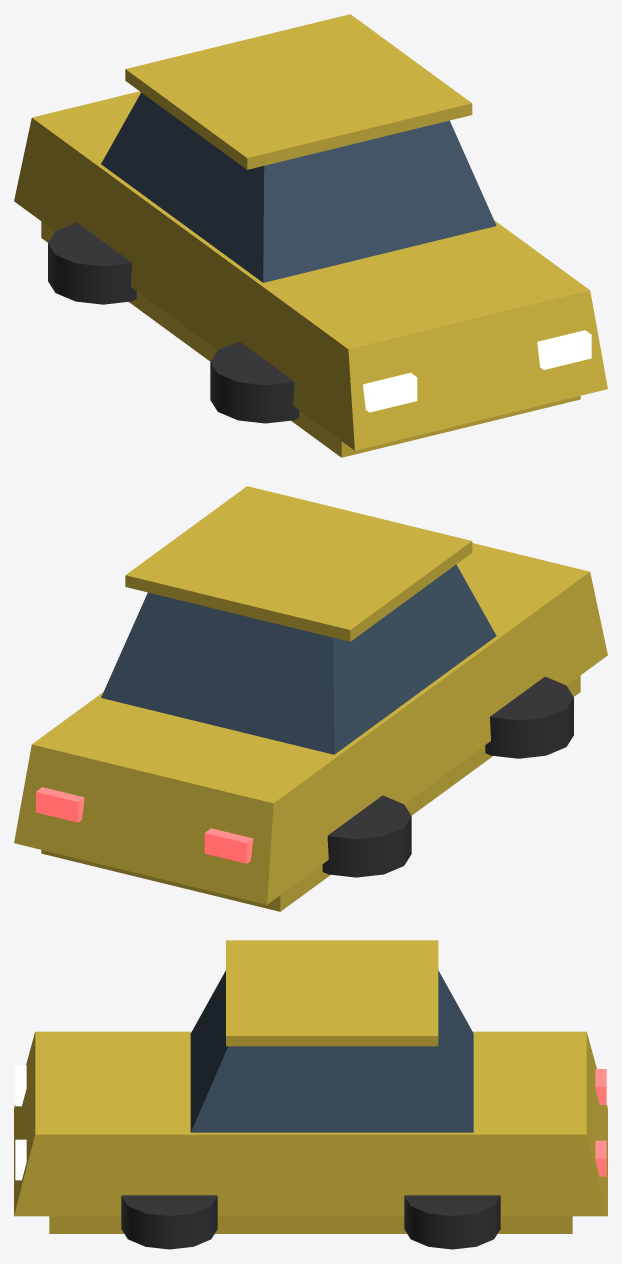
File: car_taxi.glb
3 views of the same model, one above another, from view 1: azimuth 30°, elevation 25°; view 2: azimuth 150°, elevation 25°; view 3: azimuth 270°, elevation 25° (orthographic). The views are drawn at different scales.
Parts seen in each view (by area): view 1: body, cabin, roof, wheels, lights; view 2: body, cabin, roof, wheels, tail; view 3: body, cabin, roof, wheels, lights, tail.
Part boxes in pixels (bbox=[...]): body: bbox=[14, 91, 607, 457]; cabin: bbox=[101, 92, 496, 282]; roof: bbox=[125, 14, 472, 169]; wheels: bbox=[48, 222, 299, 423]; lights: bbox=[363, 330, 591, 412]; body: bbox=[14, 543, 607, 911]; cabin: bbox=[101, 564, 496, 754]; roof: bbox=[125, 486, 472, 641]; wheels: bbox=[322, 677, 573, 877]; tail: bbox=[36, 787, 253, 863]; body: bbox=[14, 1031, 607, 1233]; cabin: bbox=[190, 970, 473, 1132]; roof: bbox=[226, 940, 438, 1046]; wheels: bbox=[121, 1195, 500, 1249]; lights: bbox=[15, 1065, 26, 1180]; tail: bbox=[595, 1069, 606, 1176].
Size of the model in its own units: 2.48 by 1.52 by 4.2.
